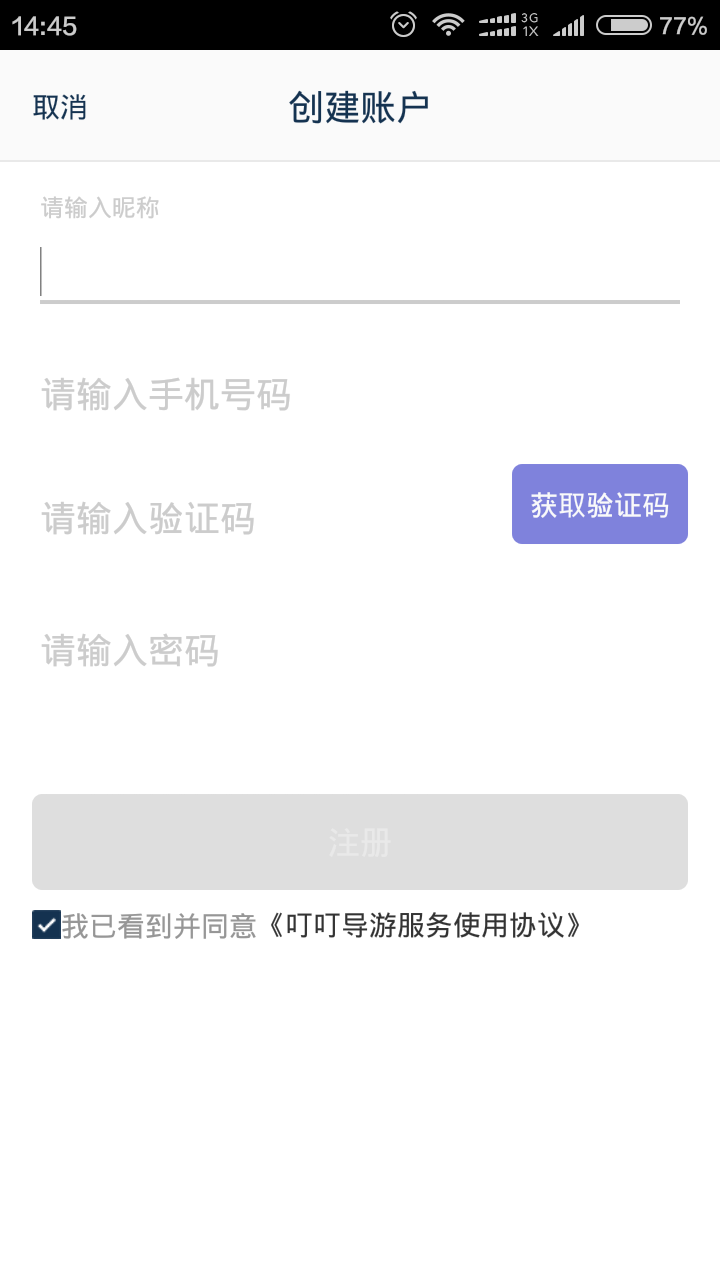button: (506, 456, 698, 552)
checkbox: (20, 906, 586, 954)
